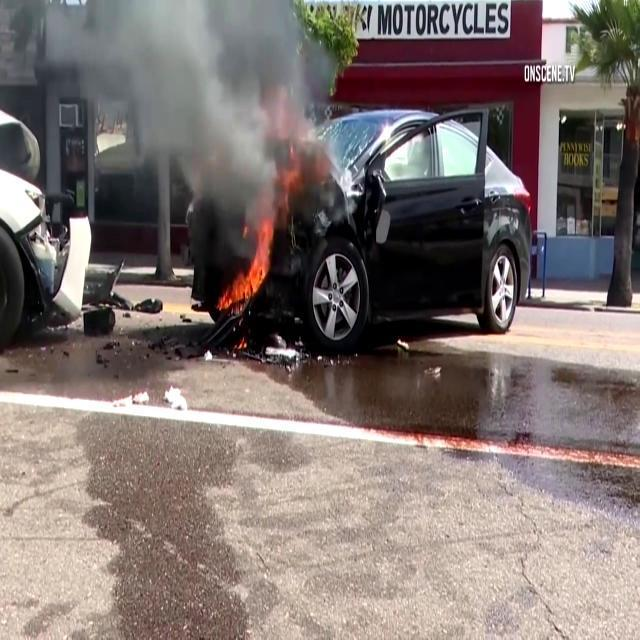Fire: (218, 223, 274, 321)
Smoke: (34, 0, 336, 226)
